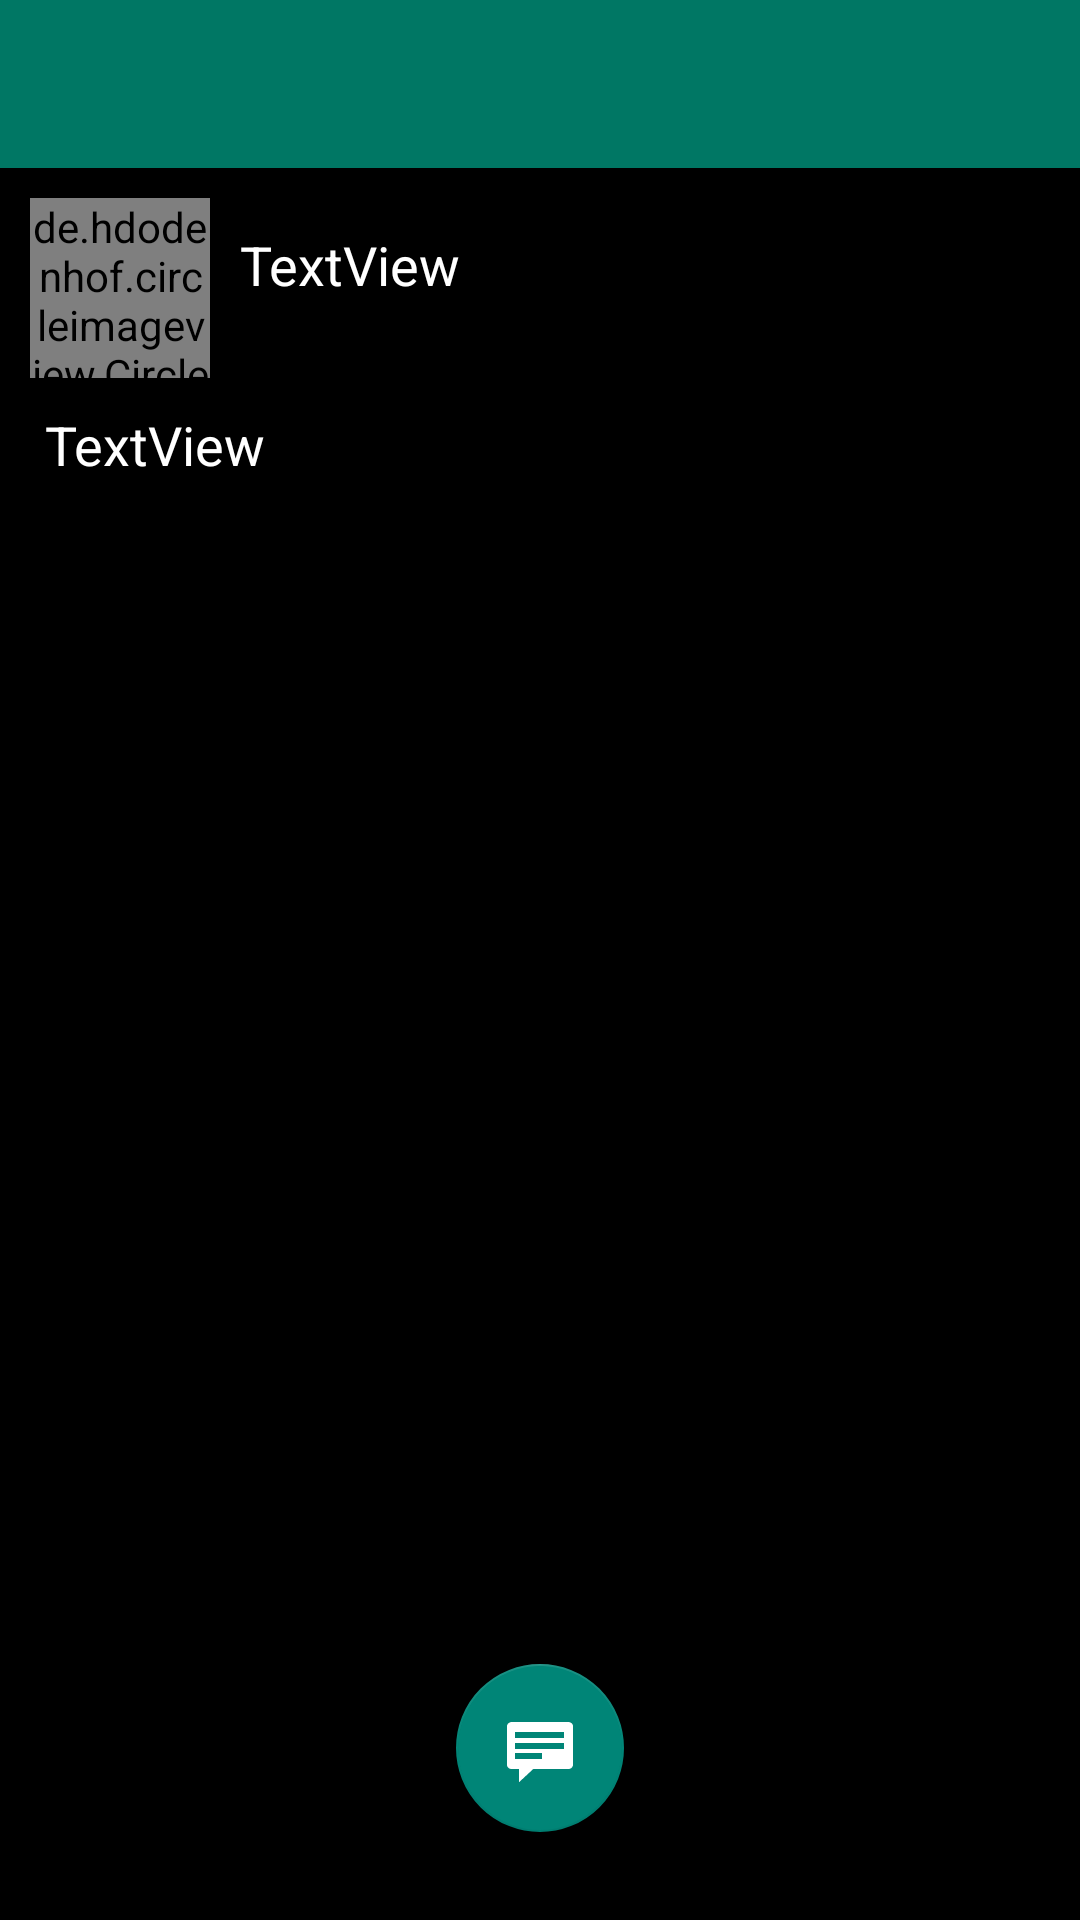

Named icons in this screenshot (1080 x 1920) and their centers, point (x, y):
chat: point (540, 1748)
